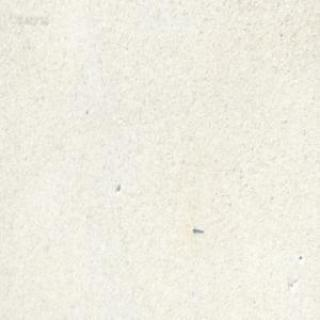Nailtrack_idkeyframe: (191, 226, 203, 234)
